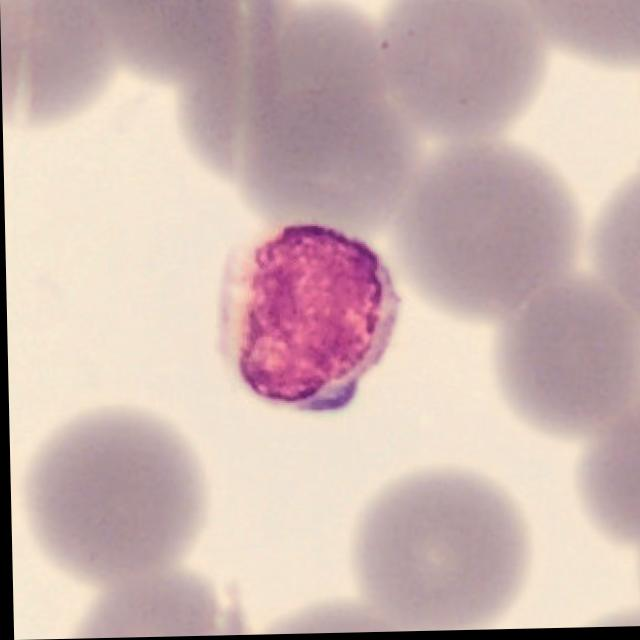Linfocito: (218, 226, 399, 415)
